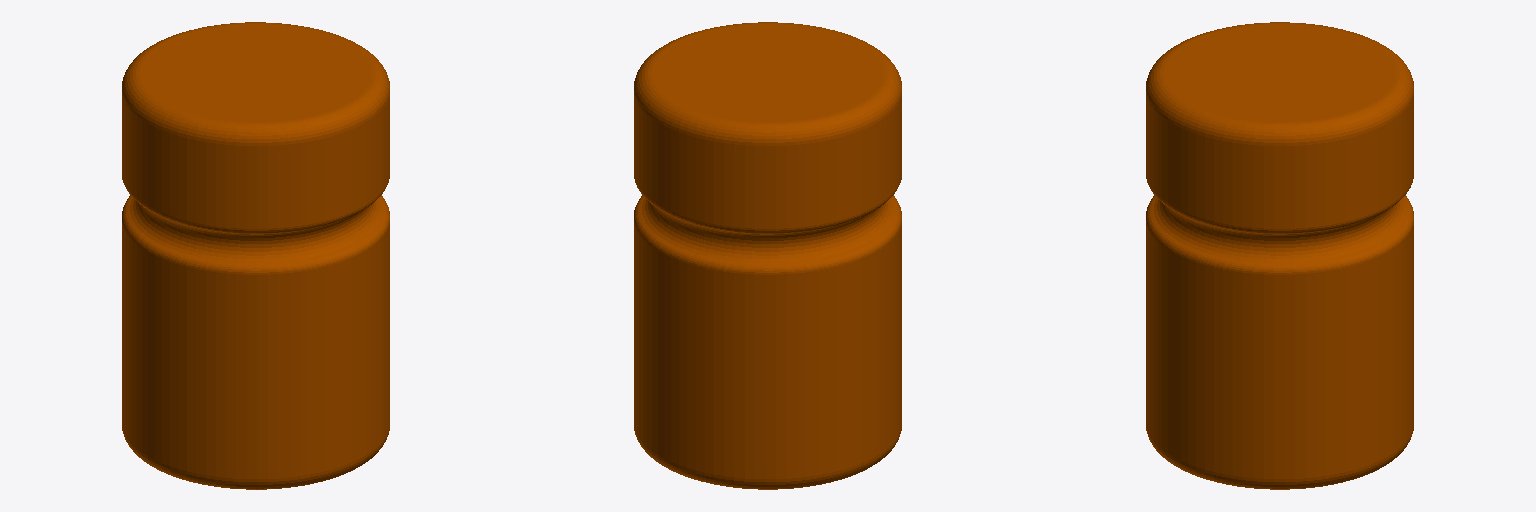
The model's file is petit-rond-jaune.obj.
3 renders of one model, left to right at view 1: azimuth 30°, elevation 25°; view 2: azimuth 150°, elevation 25°; view 3: azimuth 270°, elevation 25°, orthographic.
Parts seen in each view (by area): view 1: quarto-pieces.013; view 2: quarto-pieces.013; view 3: quarto-pieces.013.
Boxes of the visible parts, <box> form: quarto-pieces.013: <box>122,22,389,489</box>; quarto-pieces.013: <box>634,22,901,489</box>; quarto-pieces.013: <box>1146,22,1413,489</box>.
Bounding box in the file's own units: 29.98 × 45 × 29.98.